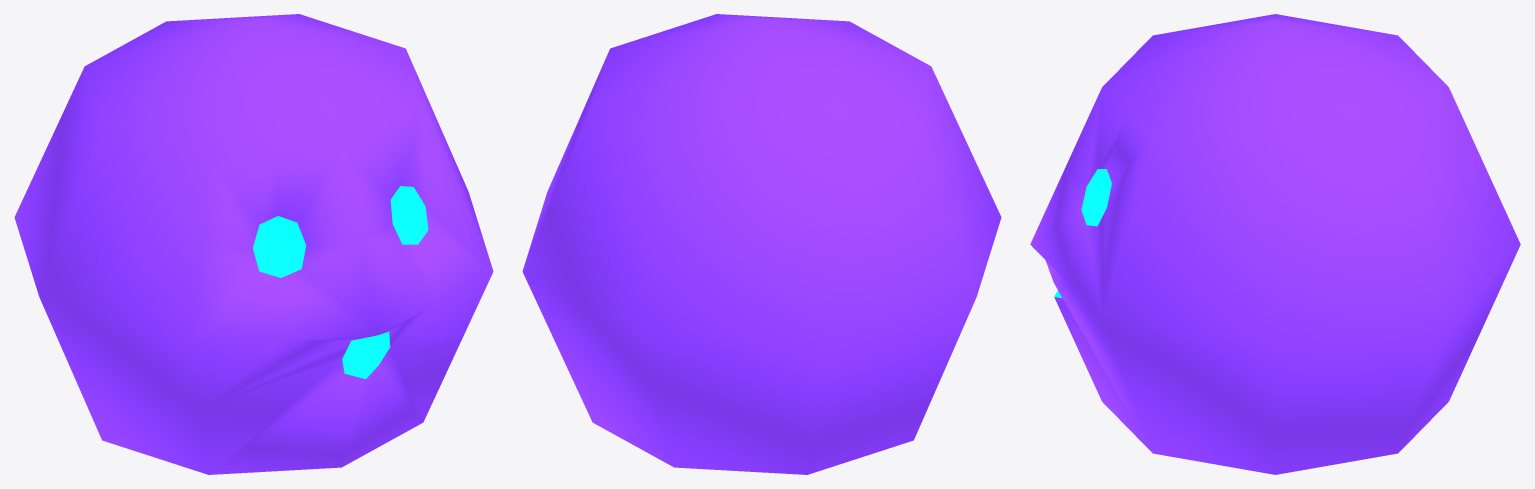
File: BolaRealentizadoraNeon.fbx
3 views of the same model, side by side, from view 1: azimuth 30°, elevation 25°; view 2: azimuth 150°, elevation 25°; view 3: azimuth 270°, elevation 25° (orthographic).
Visible parts, largest first — view 1: Sphere; view 2: Sphere; view 3: Sphere.
Boxes of the visible parts, left/top/right/bottom form: Sphere: left=14, top=14, right=493, bottom=474; Sphere: left=522, top=14, right=1001, bottom=474; Sphere: left=1030, top=14, right=1520, bottom=474.
Size of the model in its own units: 70 by 70 by 70.
